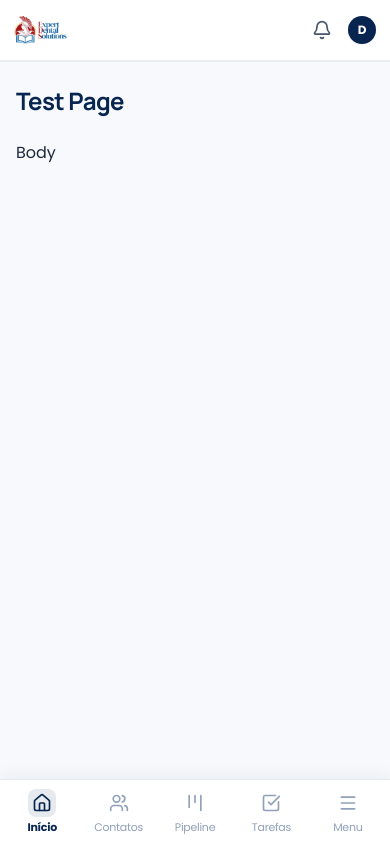
it: Batch 4.2 — Premium Global UI System & Responsive Suite › Responsive Layout Shell Integration › opens MobileMenuSheet when Menu button is clicked in Layout
Note: Click Menu in bottom nav
Click the button with id "mobile-nav-menu". click: point(348, 812)
box: [310,783,386,841]
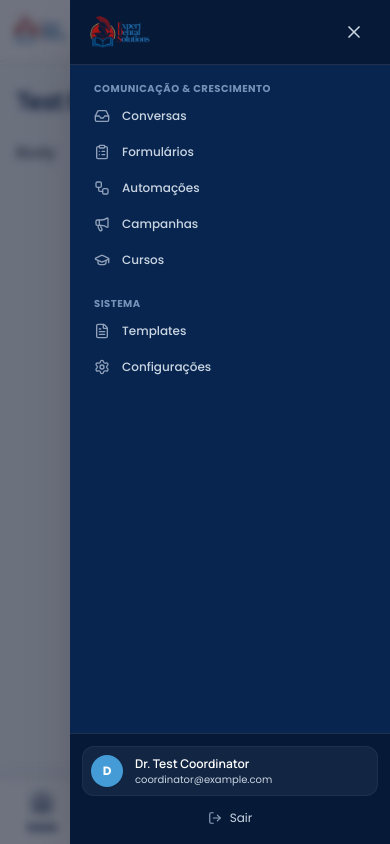
Result: the dialog with id "mobile-menu-drawer" is shown
